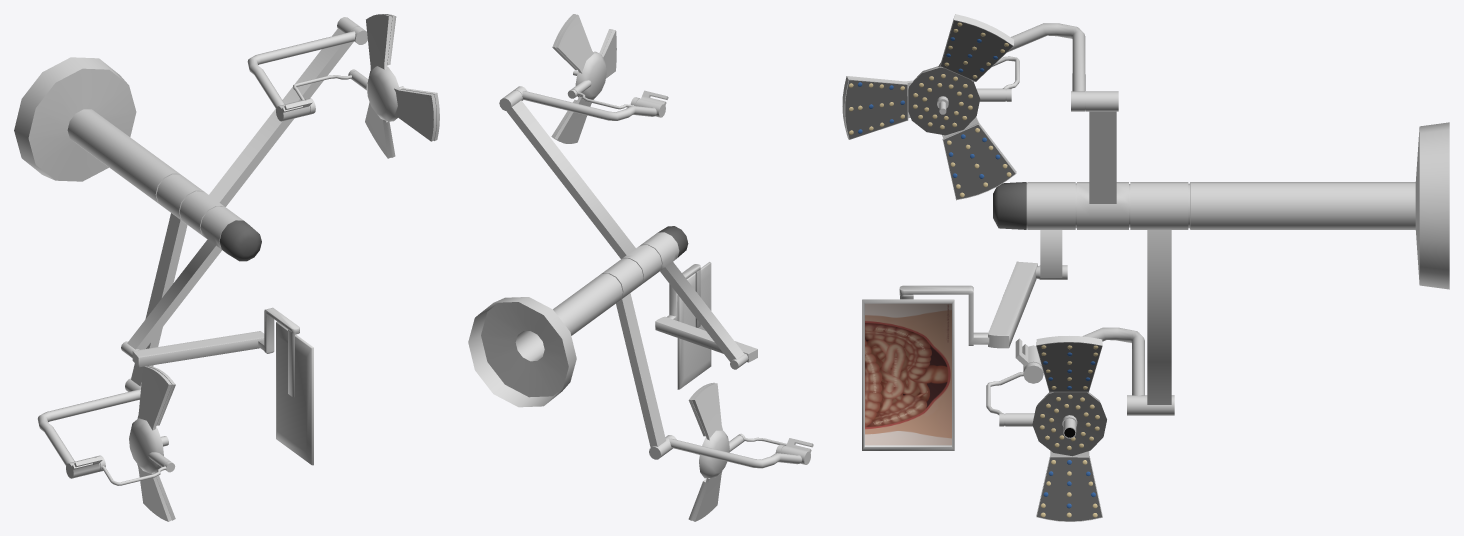
File: surgencyLamp.fbx
3 renders of one model, left to right at view 1: azimuth 30°, elevation 25°; view 2: azimuth 150°, elevation 25°; view 3: azimuth 270°, elevation 25°, orthographic. The views are drawn at different scales.
Visible parts, largest first — view 1: Cube.001; view 2: Cube.001; view 3: Cube.001.
Boxes of the visible parts, x1=… form: Cube.001: x1=14, y1=14, x2=439, y2=521; Cube.001: x1=468, y1=14, x2=813, y2=521; Cube.001: x1=842, y1=14, x2=1449, y2=521.
Bounding box in the file's own units: 165 × 244 × 215.
